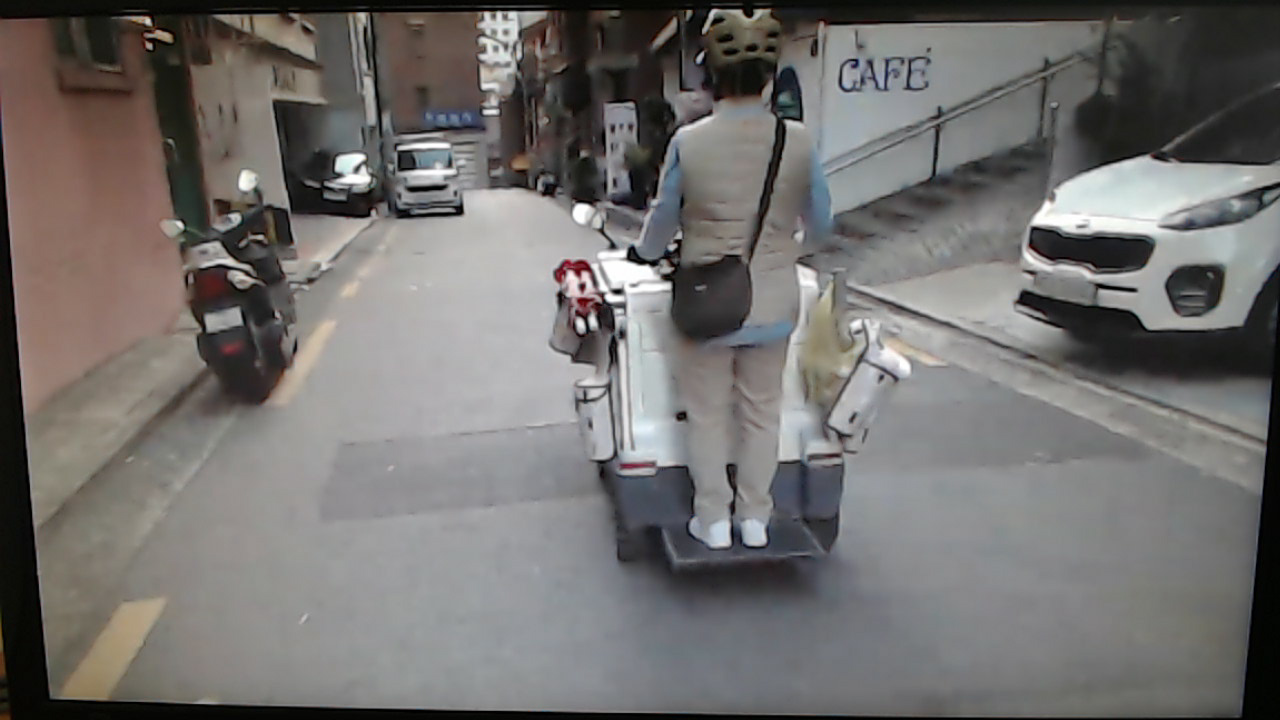Yakurut: (607, 11, 881, 570)
